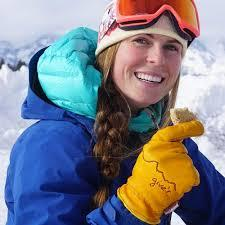gloves: (116, 120, 206, 225)
